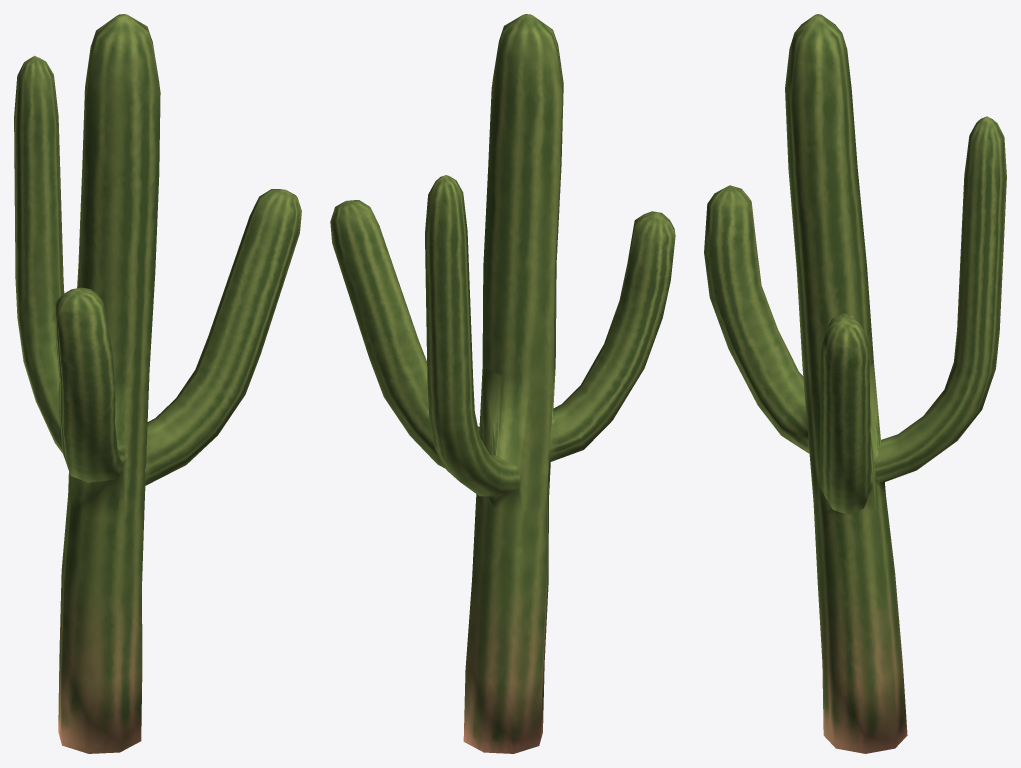
File: cactus_9.glb
3 views of the same model, side by side, from view 1: azimuth 30°, elevation 25°; view 2: azimuth 150°, elevation 25°; view 3: azimuth 270°, elevation 25° (orthographic). The views are drawn at different scales.
Visible parts, largest first — view 1: cactus_9_cacturs_9_0; view 2: cactus_9_cacturs_9_0; view 3: cactus_9_cacturs_9_0.
Part boxes in pixels (x1=…): cactus_9_cacturs_9_0: x1=14, y1=14, x2=301, y2=753; cactus_9_cacturs_9_0: x1=330, y1=14, x2=675, y2=753; cactus_9_cacturs_9_0: x1=704, y1=14, x2=1006, y2=753.
Size of the model in its own units: 1.75 by 4.12 by 1.57.
Materials: 1 (1 with a texture image).
